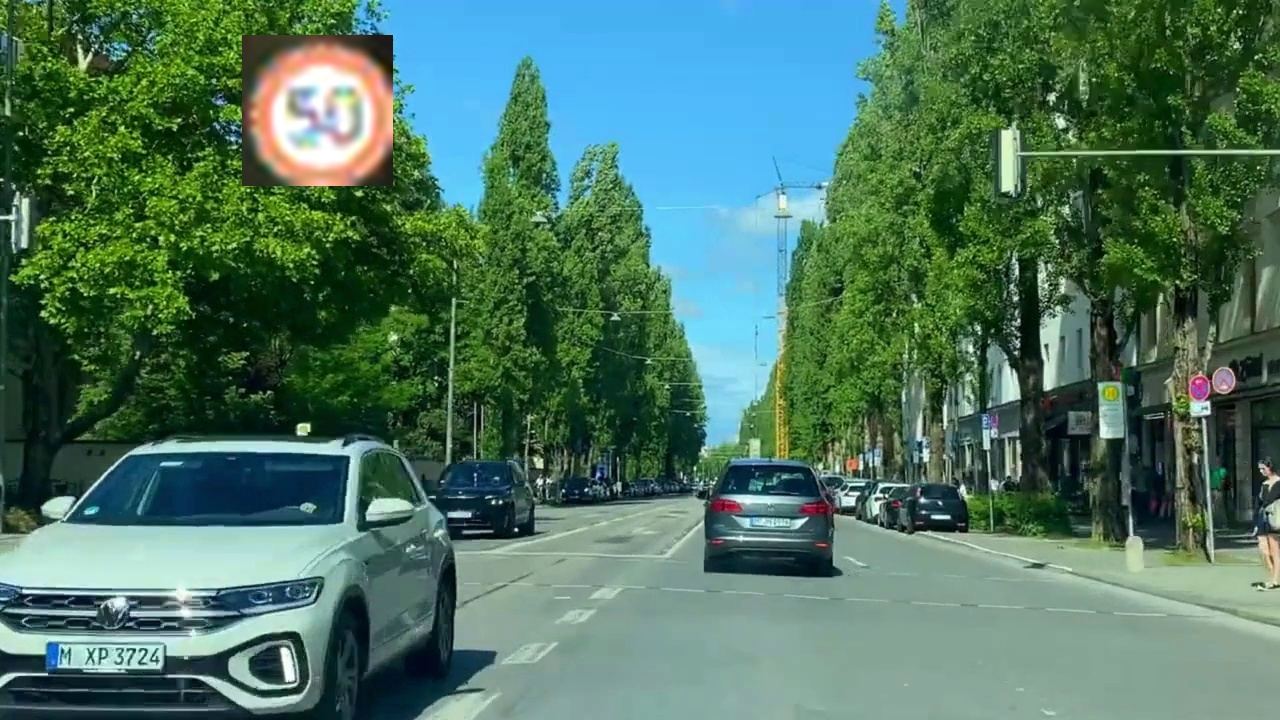Speed 50: (242, 35, 393, 186)
